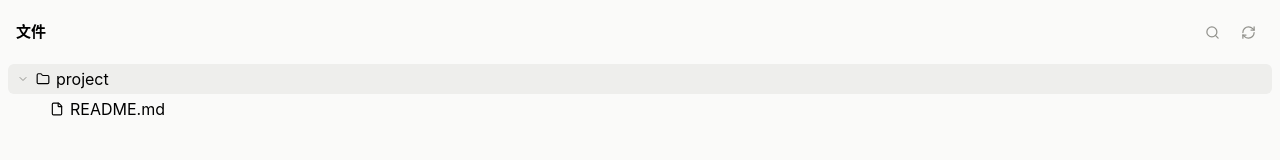
Test: WorkspaceFileTreePortal › 支持键盘单选、精确右键菜单和文件搜索
Press ArrowDown in the list item "project", box [8,64,1272,94]
Right-click the list item "README.md": (118, 109) [8,94,1272,124]
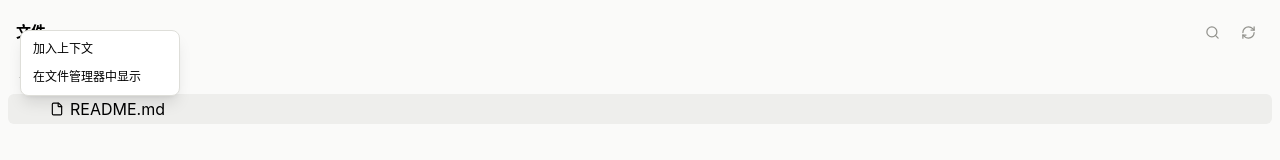
Now the menu item "加入上下文" is shown
Now the menu item "在文件管理器中显示" is shown, box [25,63,175,91]
Click the menu item "加入上下文": (100, 49) [25,35,175,63]
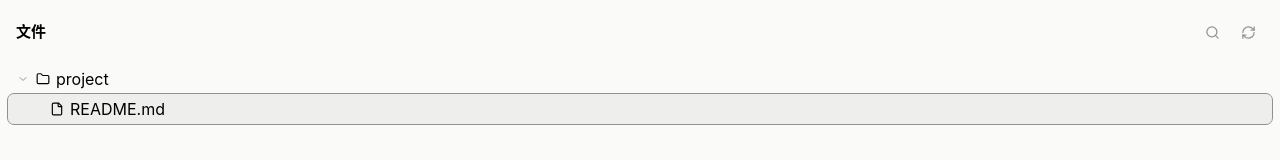
Click the button named "搜索文件": (1212, 32) [1196,16,1228,48]
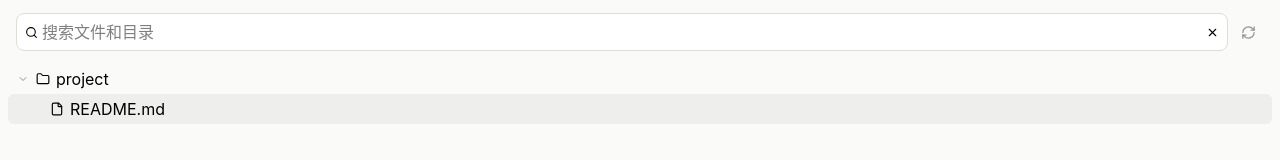
In the field labelled "搜索文件": (622, 32) [42,14,1202,50], type "src"
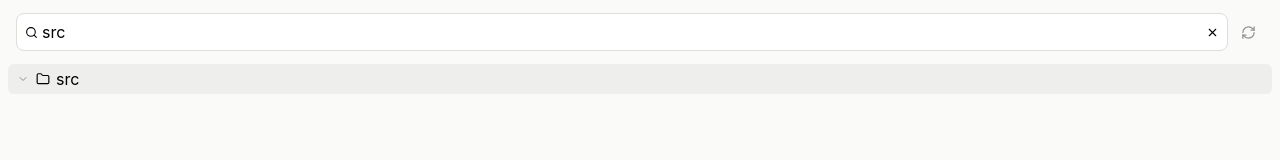
Now the list item "src" is shown, box [8,64,1272,94]
